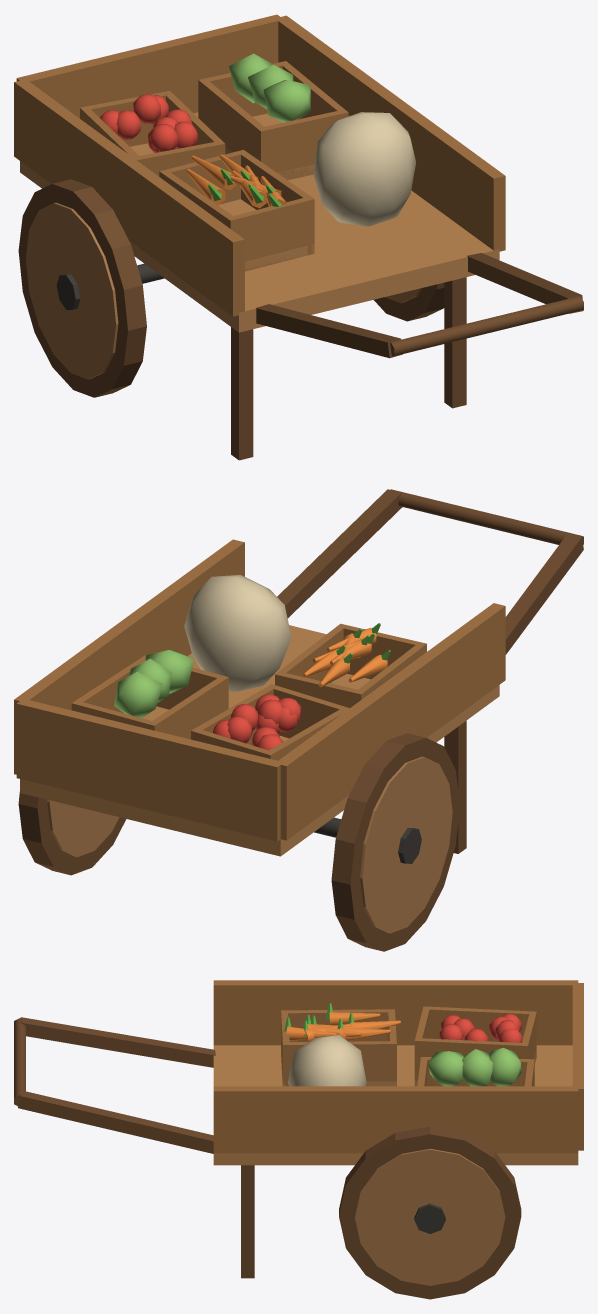
The model's file is market_cart.glb.
The picture shows the model from 3 angles, top to bottom: view 1: azimuth 30°, elevation 25°; view 2: azimuth 150°, elevation 25°; view 3: azimuth 270°, elevation 25°; orthographic projection. The views are drawn at different scales.
Parts seen in each view (by area): view 1: Market_Cart; view 2: Market_Cart; view 3: Market_Cart.
Boxes of the visible parts, bbox=[...] form: Market_Cart: bbox=[14, 14, 583, 460]; Market_Cart: bbox=[14, 489, 583, 951]; Market_Cart: bbox=[14, 980, 583, 1299].
Size of the model in its own units: 1.46 by 1.07 by 2.5.
